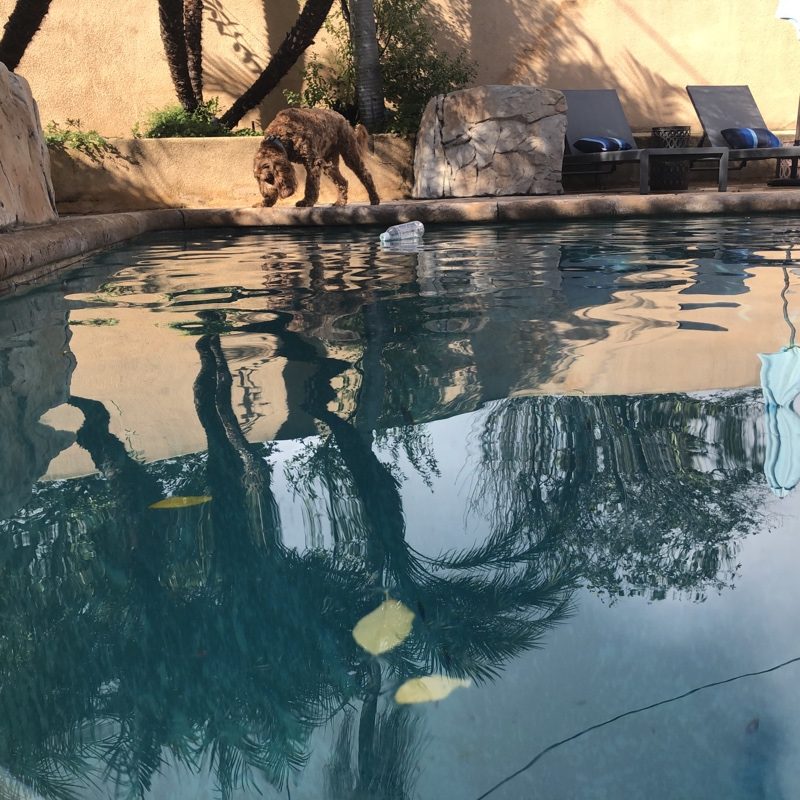Plastic Bottle: (379, 223, 427, 239)
